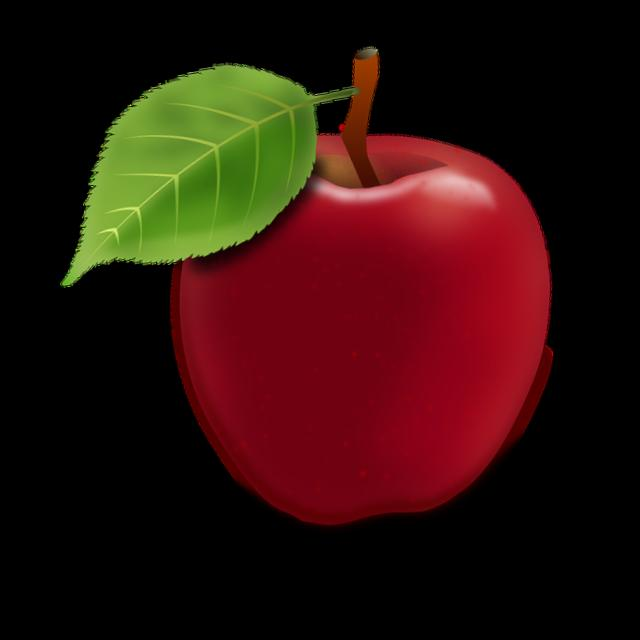apple: (141, 36, 589, 550)
